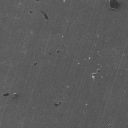corrosion: (109, 1, 122, 10), (90, 72, 97, 80), (87, 56, 91, 60)
